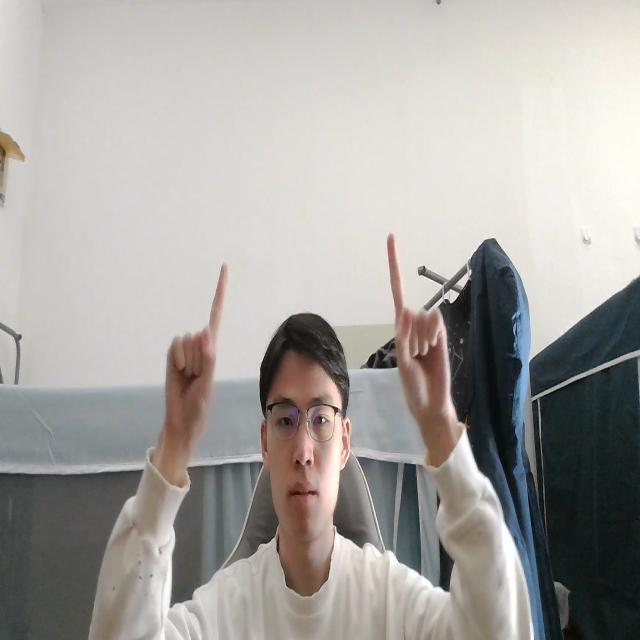one: (155, 248, 232, 465), (387, 224, 456, 442)
